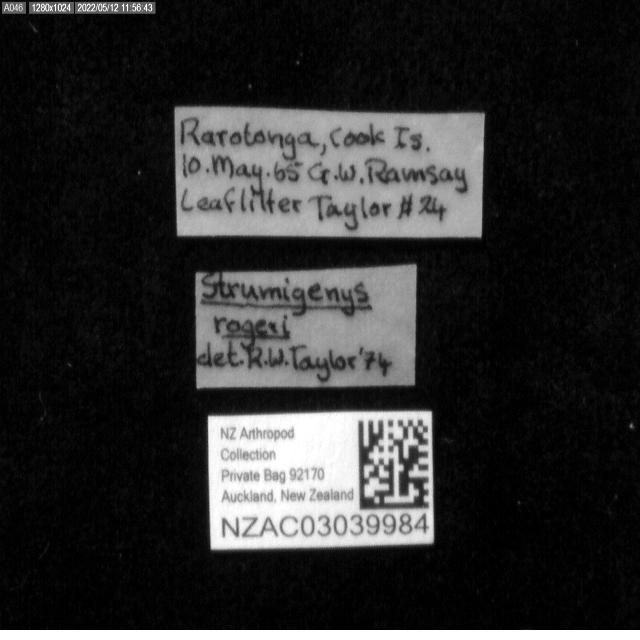hand_label: (175, 106, 485, 238), (195, 264, 416, 389)
typed_label: (209, 411, 434, 550)
